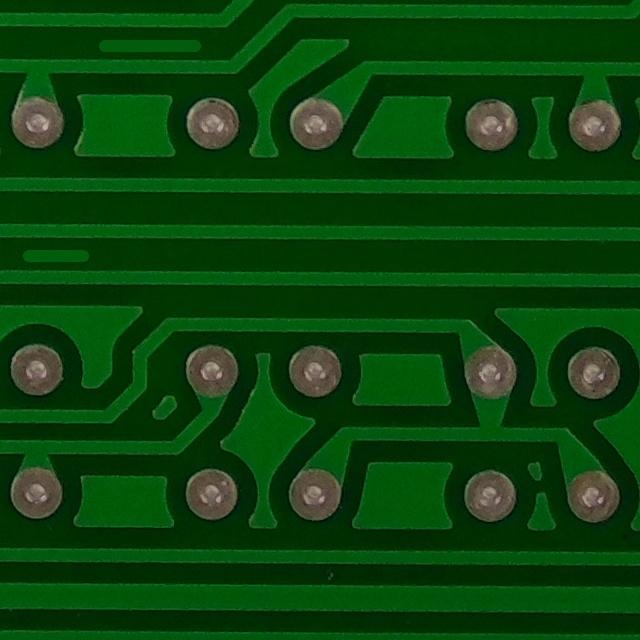spurious_copper: (89, 28, 207, 74), (6, 234, 100, 281)
